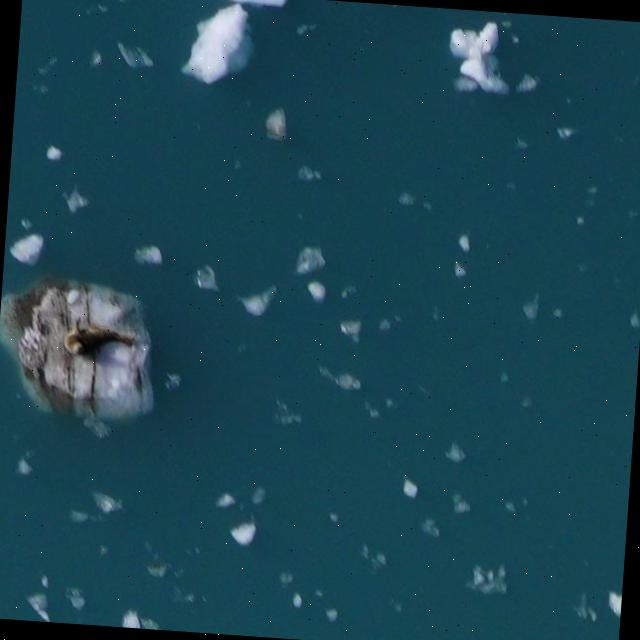seal: (64, 324, 132, 355)
